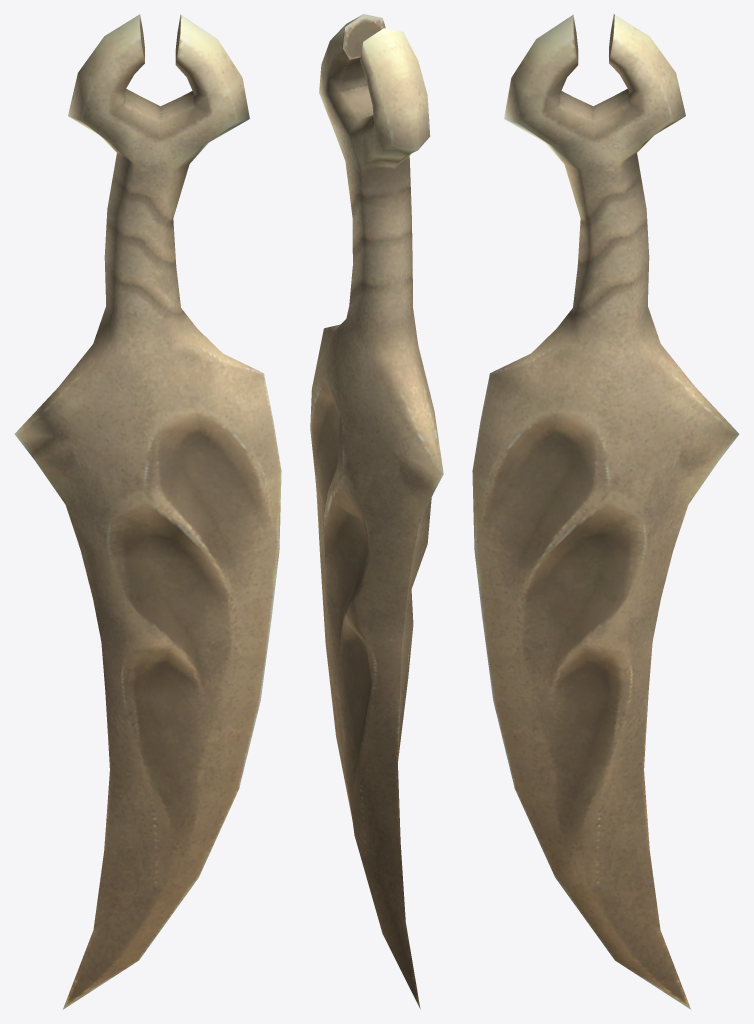
The model's file is Crysknife.fbx.
3 views of the same model, side by side, from view 1: azimuth 90°, elevation 25°; view 2: azimuth 210°, elevation 25°; view 3: azimuth 270°, elevation 25° (orthographic). The views are drawn at different scales.
Parts seen in each view (by area): view 1: CrysKnife; view 2: CrysKnife; view 3: CrysKnife.
Part boxes in pixels (left/top/right/bottom): CrysKnife: left=14, top=14, right=281, bottom=1009; CrysKnife: left=310, top=14, right=443, bottom=1008; CrysKnife: left=472, top=14, right=739, bottom=1009.
Bounding box in the file's own units: 0.0835 × 0.236 × 0.9706.
